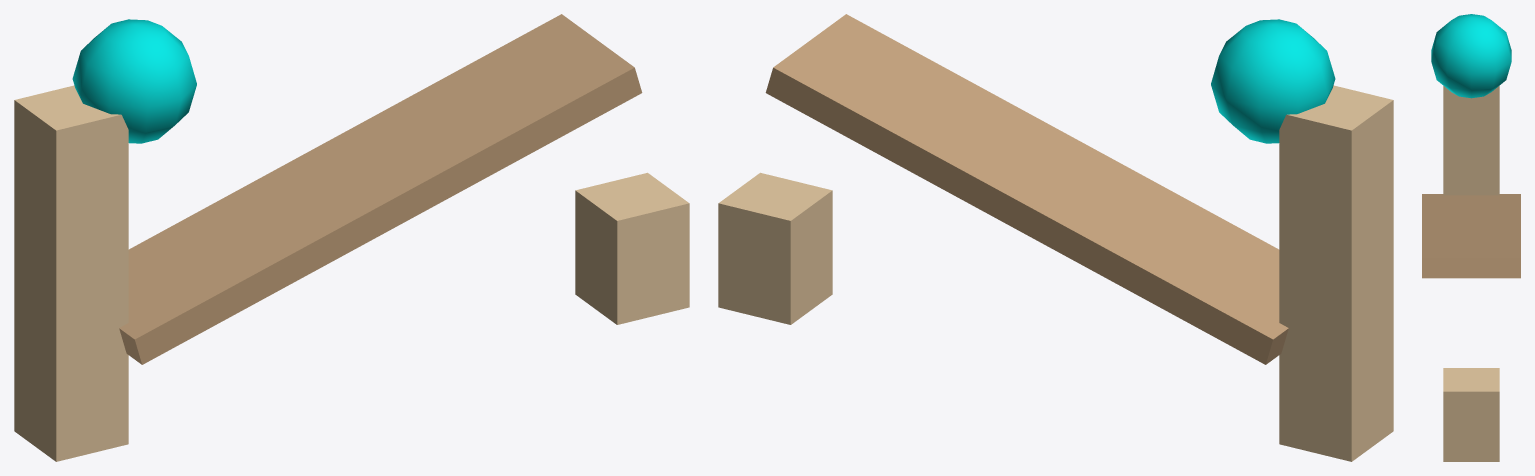
Rendered from set_rampas.glb.
The picture shows the model from 3 angles, left to right: view 1: azimuth 30°, elevation 25°; view 2: azimuth 150°, elevation 25°; view 3: azimuth 270°, elevation 25°; orthographic projection. The views are drawn at different scales.
Parts seen in each view (by area): view 1: rampa, pilar_alto, pilar_bajo, bola; view 2: rampa, pilar_alto, pilar_bajo, bola; view 3: rampa, pilar_alto, bola, pilar_bajo.
Part boxes in pixels (x1,y1,x2,y2): rampa: (119,14,642,364); pilar_alto: (14,85,128,461); pilar_bajo: (575,172,689,324); bola: (72,19,196,143); rampa: (765,14,1288,364); pilar_alto: (1279,85,1393,461); pilar_bajo: (718,172,832,324); bola: (1211,19,1335,143); rampa: (1422,194,1520,278); pilar_alto: (1443,86,1499,195); bola: (1431,14,1511,98); pilar_bajo: (1443,368,1499,461).
Bounding box in the file's own units: 1.4 × 0.84 × 0.28.
